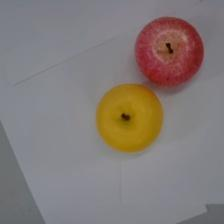red: (134, 15, 204, 87)
yellow: (95, 83, 162, 153)
